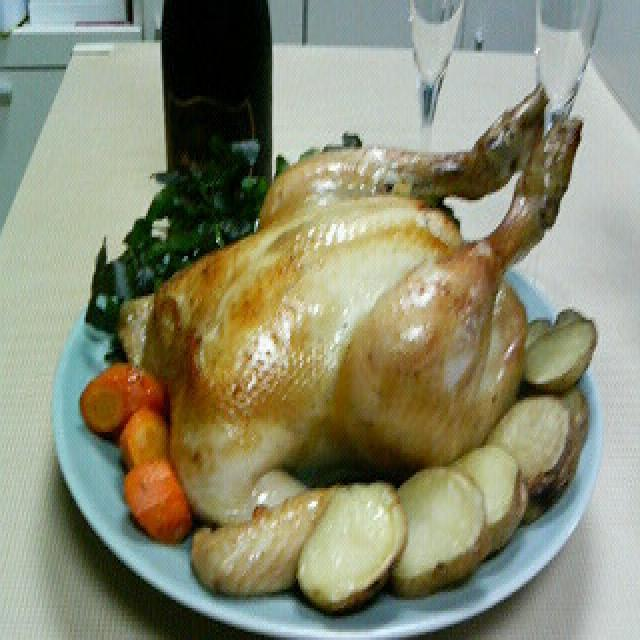Carrot: (68, 381, 156, 439)
Chicken roast: (144, 179, 524, 457)
Potato: (298, 483, 406, 601), (408, 472, 492, 590), (500, 400, 574, 482)
